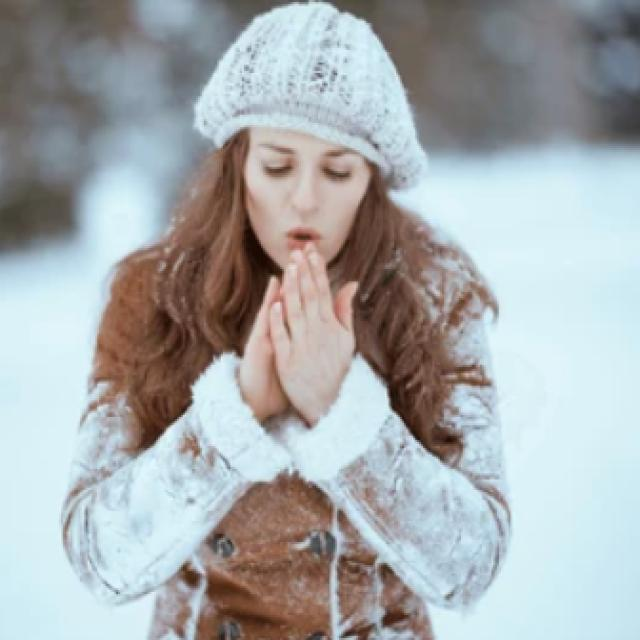face_no_mask: (241, 121, 373, 278)
